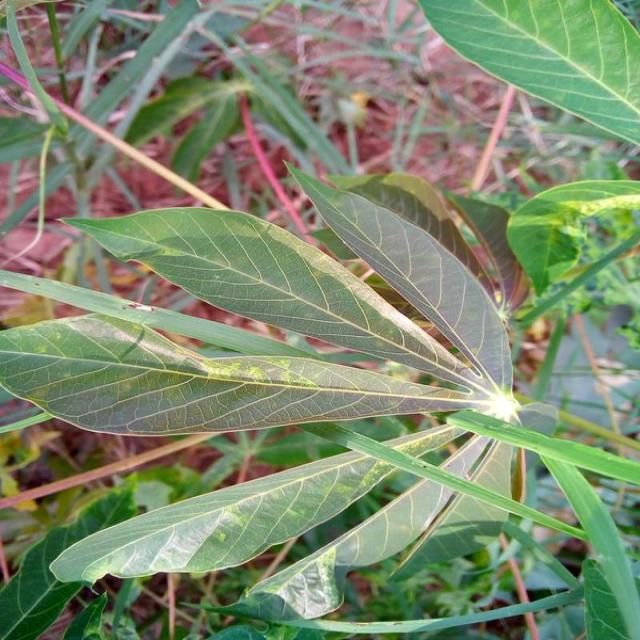Mosaico: (84, 316, 382, 438), (117, 503, 371, 598), (518, 160, 640, 300)
